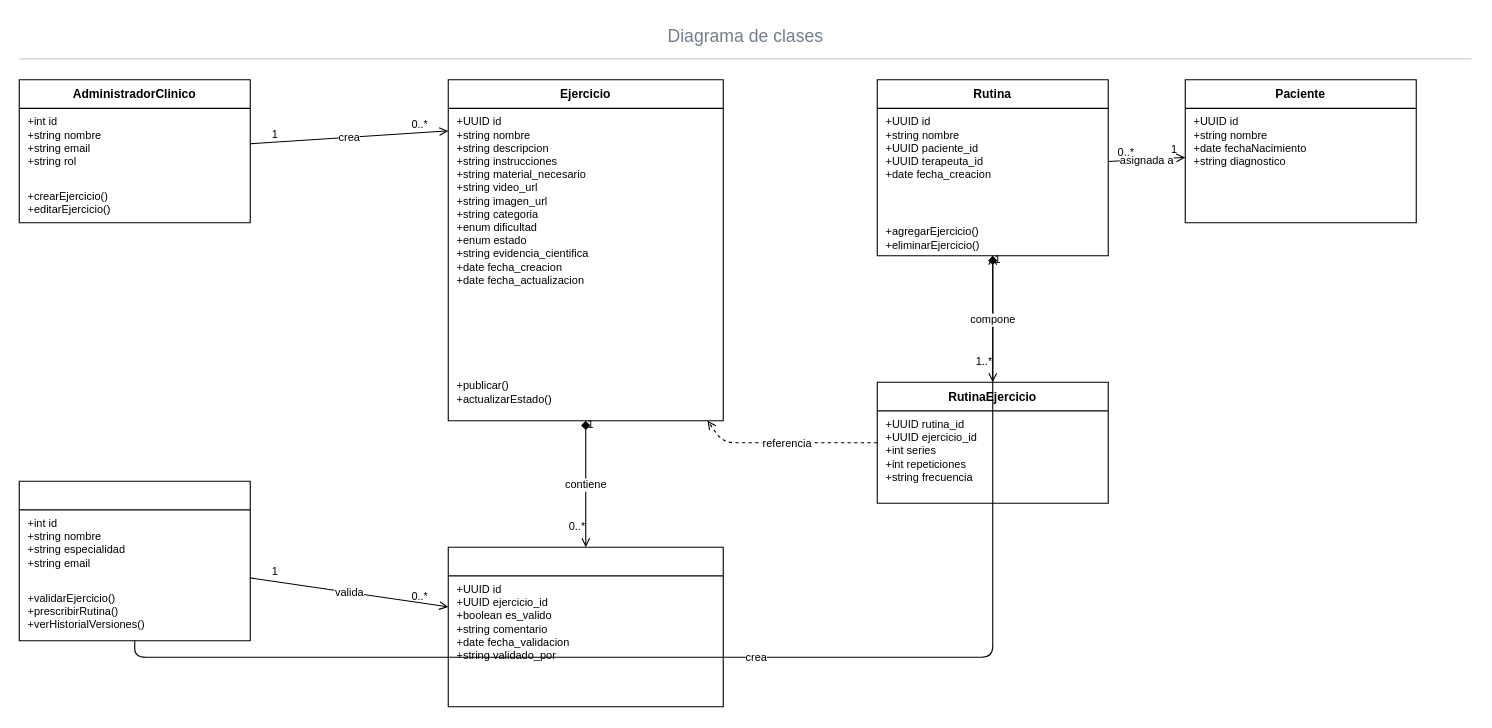
This 1492x728 diagram has some shape labels left out. The box of each missing label's shape, as (x1, y1, x2, y2) in pixels:
Terapeuta: (18, 480, 250, 641)
ValidacionEjercicio: (447, 546, 723, 707)
